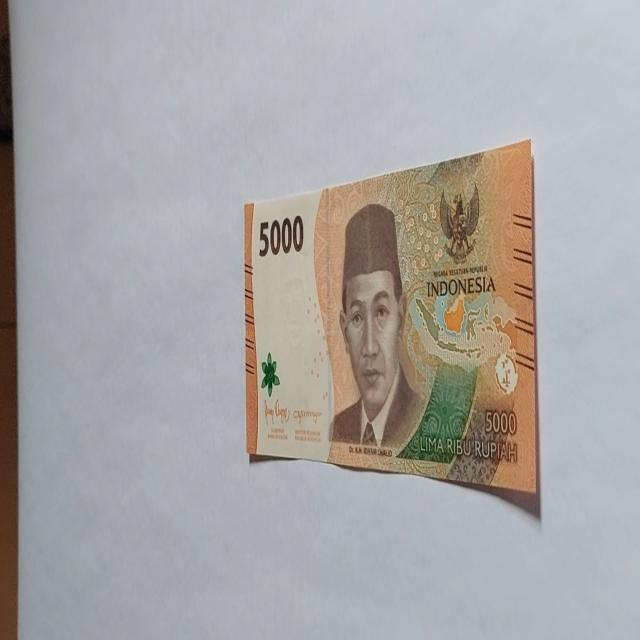lima ribu rupiah: (244, 138, 538, 512), (328, 202, 426, 452)
